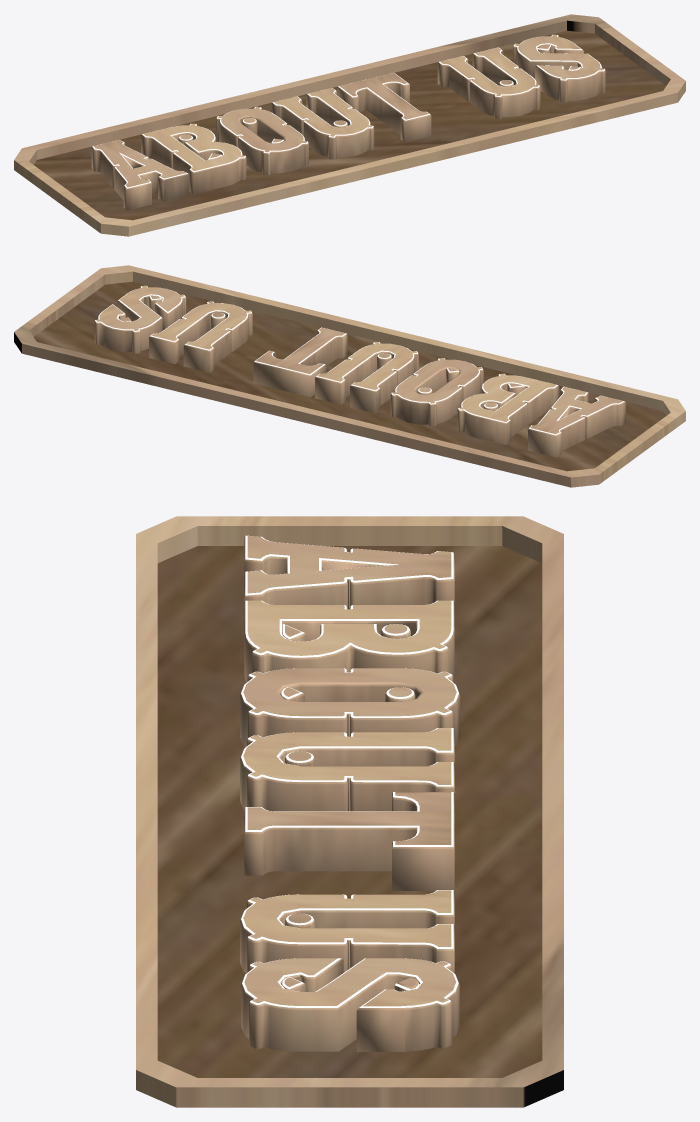
The model's file is AboutUsBoard-v1.glb.
3 renders of one model, top to bottom at view 1: azimuth 30°, elevation 25°; view 2: azimuth 150°, elevation 25°; view 3: azimuth 270°, elevation 25°, orthographic. The views are drawn at different scales.
Visible parts, largest first — view 1: Plane.003, Text.088; view 2: Plane.003, Text.088; view 3: Plane.003, Text.088.
Boxes of the visible parts, x1,y1,x2,y2 form: Plane.003: (14,14,685,236); Text.088: (92,34,604,188); Plane.003: (14,265,685,487); Text.088: (95,285,624,435); Plane.003: (136,516,563,1107); Text.088: (241,535,458,1007).
Bounding box in the file's own units: 3.6 × 0.142 × 1.14.
2 materials, 1 textured.
